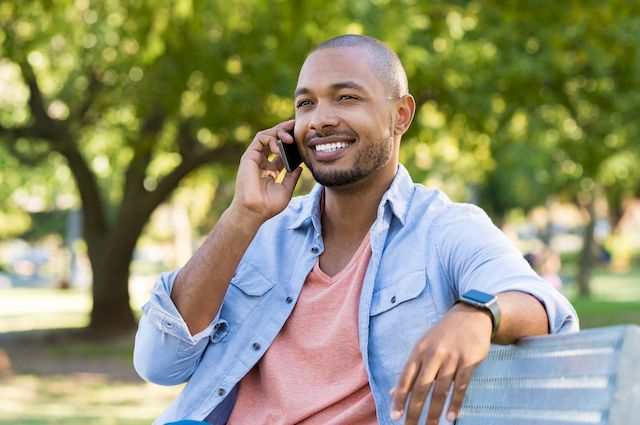phone: (270, 125, 301, 170)
talk: (239, 77, 391, 216)
